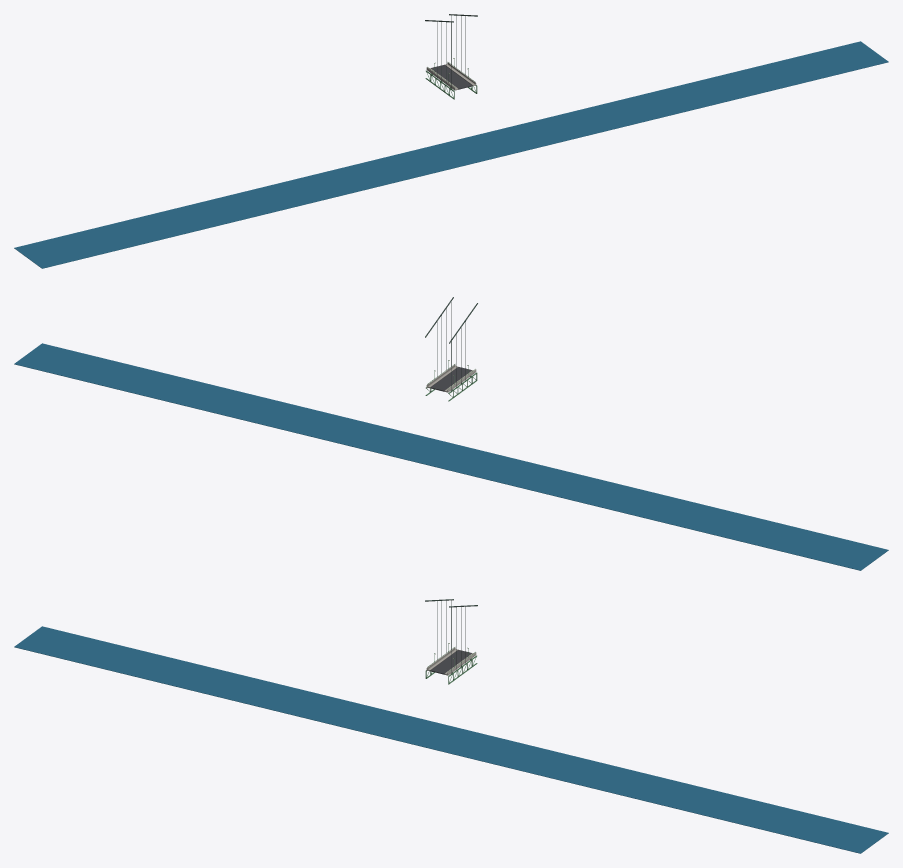
The model's file is puente_amb_0.glb.
The picture shows the model from 3 angles, top to bottom: view 1: azimuth 30°, elevation 25°; view 2: azimuth 150°, elevation 25°; view 3: azimuth 330°, elevation 25°; orthographic projection.
Visible parts, largest first — view 1: puente_amb_0; view 2: puente_amb_0; view 3: puente_amb_0.
Part boxes in pixels (<box>): puente_amb_0: <box>14,14,888,268</box>; puente_amb_0: <box>14,297,888,570</box>; puente_amb_0: <box>14,599,888,853</box>.
Size of the model in its own units: 520 by 86.3 by 30.26.
1 material, 1 textured.
